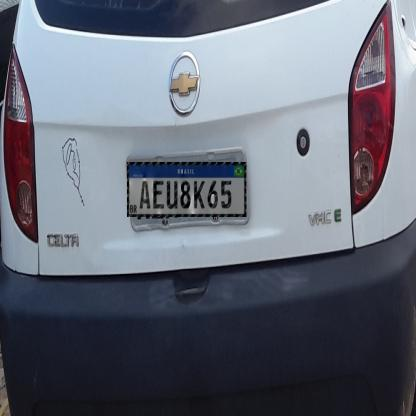PlacaM: (127, 162, 246, 217)
